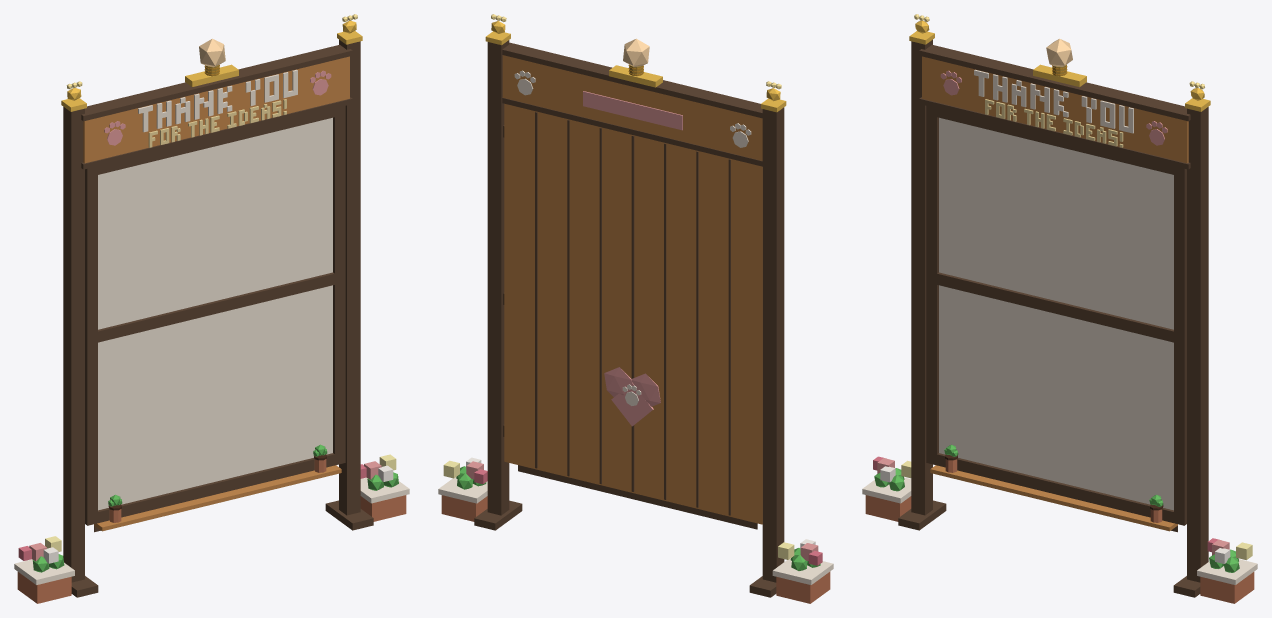
The model's file is CatCafe_Street_ThanksBoard.glb.
The picture shows the model from 3 angles, left to right: view 1: azimuth 30°, elevation 25°; view 2: azimuth 150°, elevation 25°; view 3: azimuth 330°, elevation 25°; orthographic projection.
Visible parts, largest first — view 1: CatCafe_Street_ThanksBoard, CatCafe_Street_ThanksBoard_Screen, CatCafe_Street_ThanksBoard_WhatsNewPanel, CatCafe_Street_ThanksBoard_Flowers, CatCafe_Street_ThanksBoard_Bulb; view 2: CatCafe_Street_ThanksBoard, CatCafe_Street_ThanksBoard_Flowers, CatCafe_Street_ThanksBoard_Bulb; view 3: CatCafe_Street_ThanksBoard, CatCafe_Street_ThanksBoard_Screen, CatCafe_Street_ThanksBoard_WhatsNewPanel, CatCafe_Street_ThanksBoard_Flowers, CatCafe_Street_ThanksBoard_Bulb.
Boxes of the visible parts, x1,y1,x2,y2 form: CatCafe_Street_ThanksBoard: (14,14,409,603); CatCafe_Street_ThanksBoard_Screen: (98,285,332,510); CatCafe_Street_ThanksBoard_WhatsNewPanel: (98,117,332,329); CatCafe_Street_ThanksBoard_Flowers: (18,454,396,563); CatCafe_Street_ThanksBoard_Bulb: (199,38,225,67); CatCafe_Street_ThanksBoard: (438,14,833,603); CatCafe_Street_ThanksBoard_Flowers: (443,457,822,565); CatCafe_Street_ThanksBoard_Bulb: (623,38,649,66); CatCafe_Street_ThanksBoard: (862,14,1257,603); CatCafe_Street_ThanksBoard_Screen: (939,285,1173,510); CatCafe_Street_ThanksBoard_WhatsNewPanel: (939,117,1173,329); CatCafe_Street_ThanksBoard_Flowers: (873,456,1252,563); CatCafe_Street_ThanksBoard_Bulb: (1046,38,1072,66).
Bounding box in the file's own units: 12.01 × 15.74 × 1.5.
Materials: 1 (1 with a texture image).
